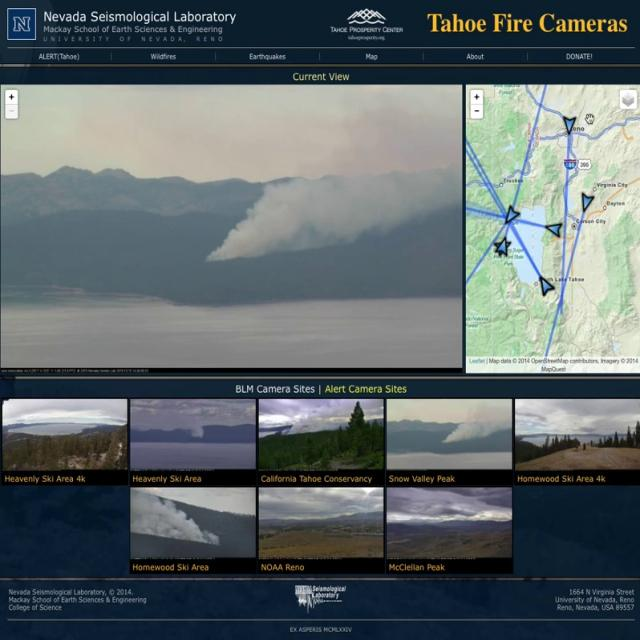smoke: (200, 116, 445, 268)
